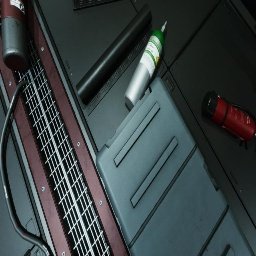0: (124, 21, 167, 110)
FireExtinguisher ]: (201, 90, 256, 152)
NitrogenTank ,: (0, 0, 29, 72)
